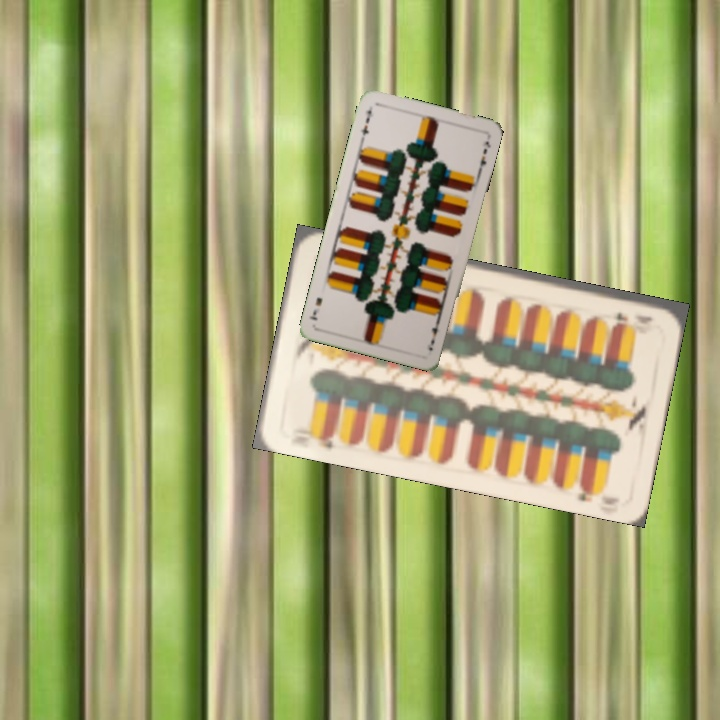E10: (288, 424, 338, 452), (612, 308, 656, 327)
E7: (356, 106, 375, 138), (426, 315, 443, 348)
